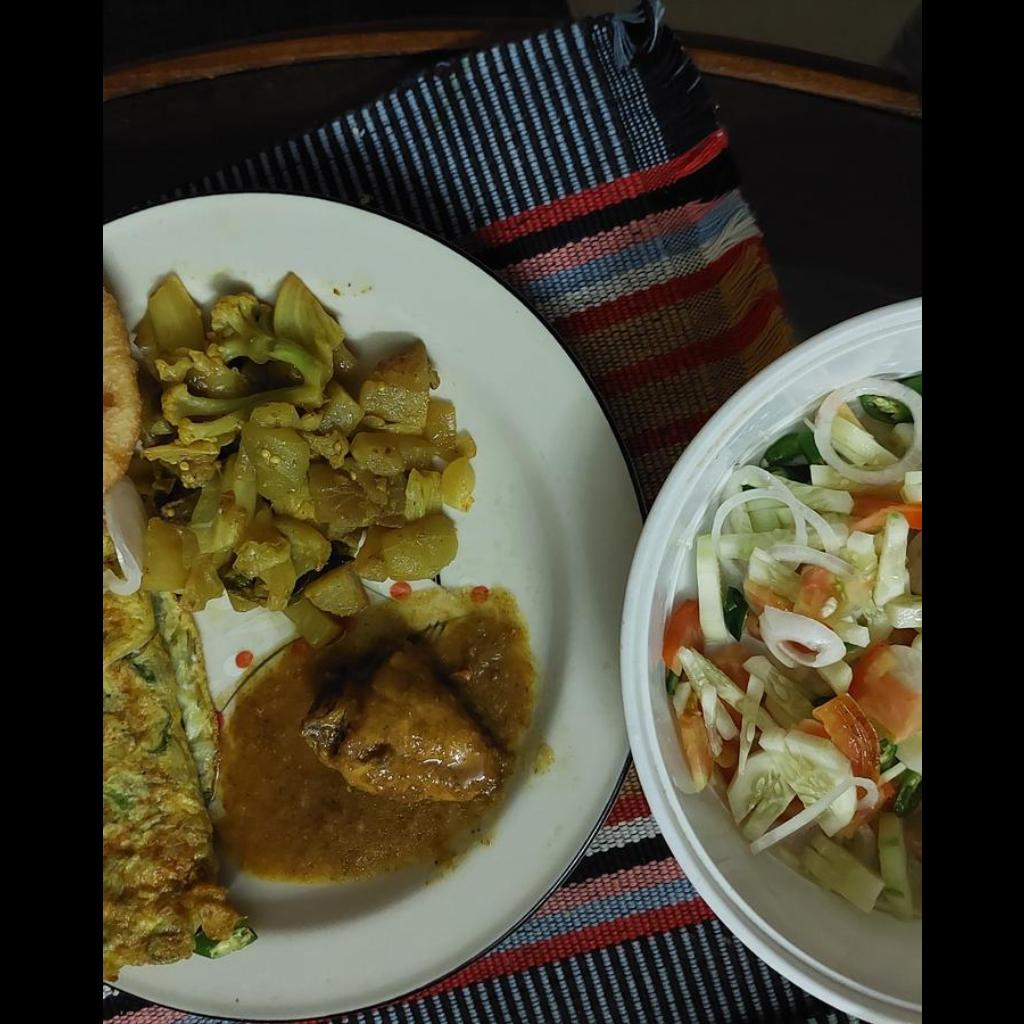chicken: (307, 639, 522, 806)
egg-poached: (102, 595, 251, 977)
salad: (670, 371, 920, 920)
vaji: (132, 268, 483, 639)
